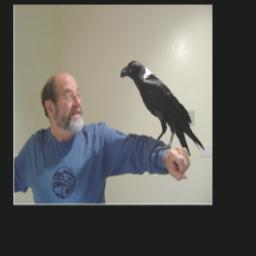Crow: (120, 57, 207, 156)
